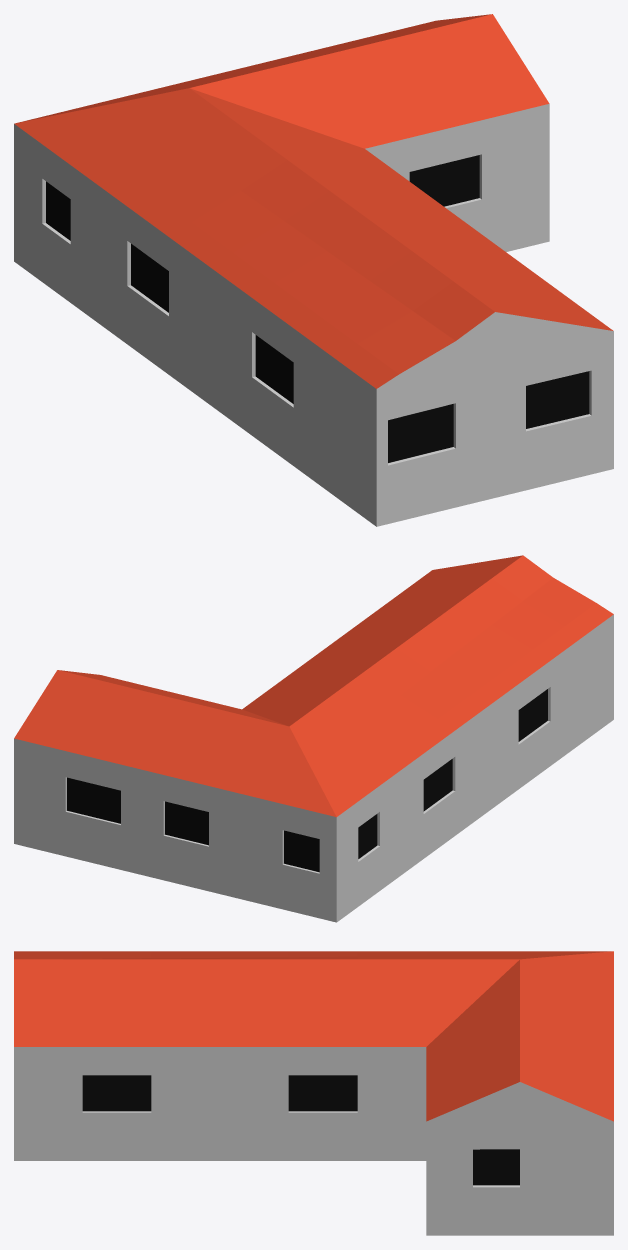
File: Haus_3.fbx
The picture shows the model from 3 angles, top to bottom: view 1: azimuth 30°, elevation 25°; view 2: azimuth 150°, elevation 25°; view 3: azimuth 270°, elevation 25°; orthographic projection. The views are drawn at different scales.
Visible parts, largest first — view 1: Cube.112; view 2: Cube.112; view 3: Cube.112.
Boxes of the visible parts, <box> form: Cube.112: <box>14,14,613,526</box>; Cube.112: <box>14,555,613,922</box>; Cube.112: <box>14,951,613,1235</box>.
Size of the model in its own units: 2939 by 1237 by 4372.
